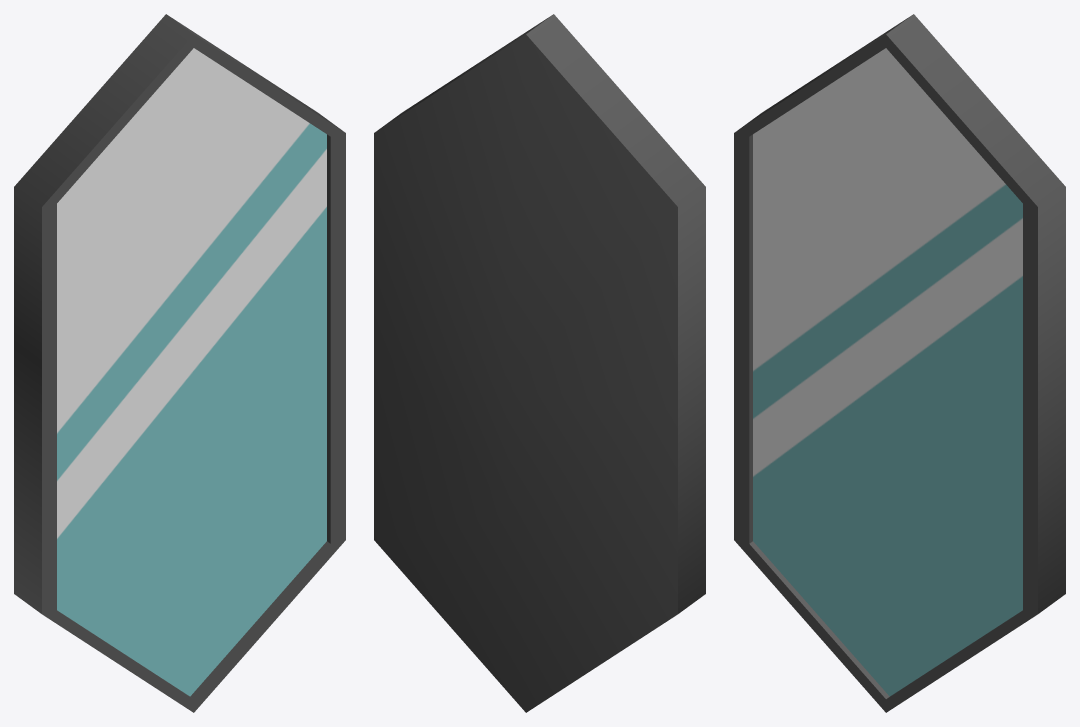
File: mirror2.fbx
3 renders of one model, left to right at view 1: azimuth 30°, elevation 25°; view 2: azimuth 150°, elevation 25°; view 3: azimuth 330°, elevation 25°, orthographic.
Visible parts, largest first — view 1: mirror; view 2: mirror; view 3: mirror.
Part boxes in pixels (box(x1,y1,x2,y2)): mirror: box(14, 14, 345, 712); mirror: box(374, 14, 705, 712); mirror: box(734, 14, 1065, 712).
Size of the model in its own units: 1.87 by 3.99 by 0.5196.
Materials: 1 (1 with a texture image).
